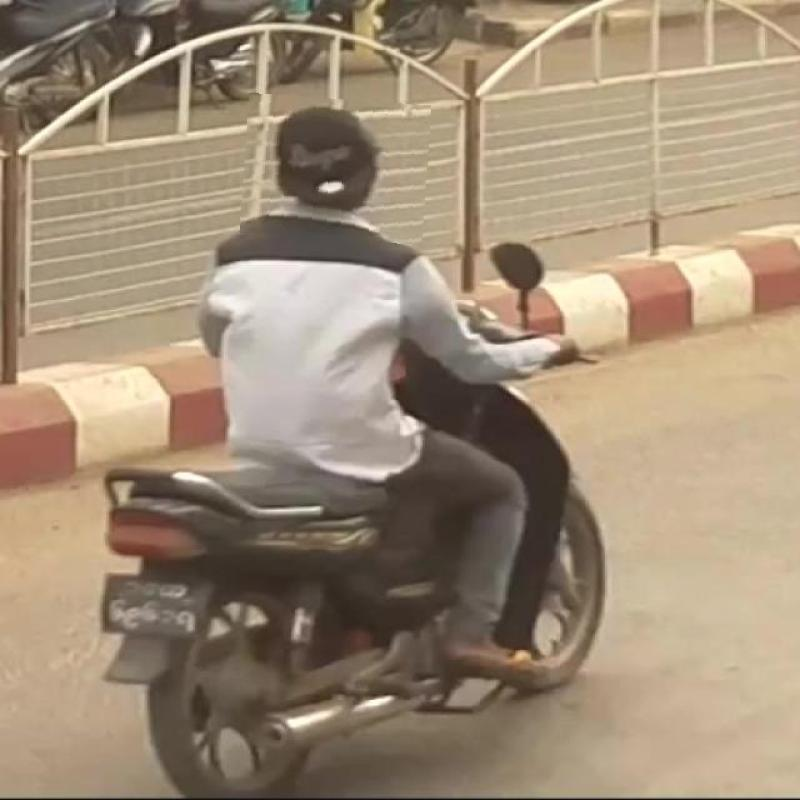nohelmet: (242, 97, 429, 242)
